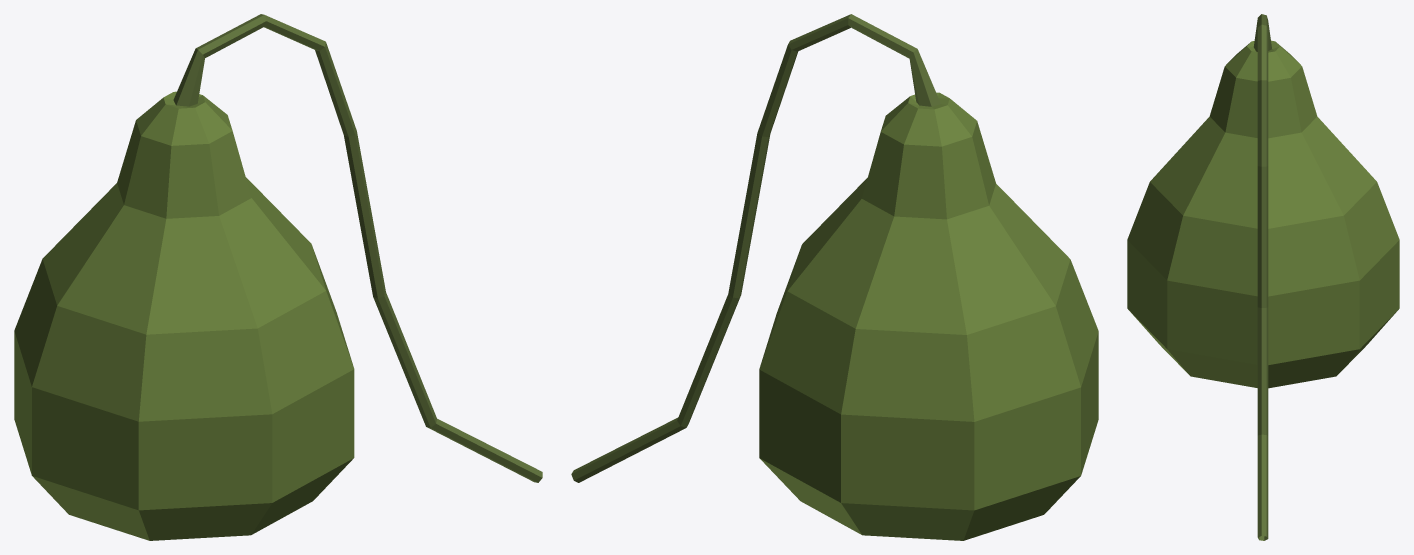
Rendered from SM_Envr_Nature_Farm_Plant_BottleGourd.fbx.
3 renders of one model, left to right at view 1: azimuth 30°, elevation 25°; view 2: azimuth 150°, elevation 25°; view 3: azimuth 270°, elevation 25°, orthographic. The views are drawn at different scales.
Parts seen in each view (by area): view 1: SM_Envr_Nature_Farm_Plant_BottleGourd; view 2: SM_Envr_Nature_Farm_Plant_BottleGourd; view 3: SM_Envr_Nature_Farm_Plant_BottleGourd.
Part boxes in pixels (<box>): SM_Envr_Nature_Farm_Plant_BottleGourd: <box>14,14,542,540</box>; SM_Envr_Nature_Farm_Plant_BottleGourd: <box>571,14,1098,540</box>; SM_Envr_Nature_Farm_Plant_BottleGourd: <box>1127,14,1399,540</box>.
Size of the model in its own units: 29.3 by 29.39 by 17.53.
